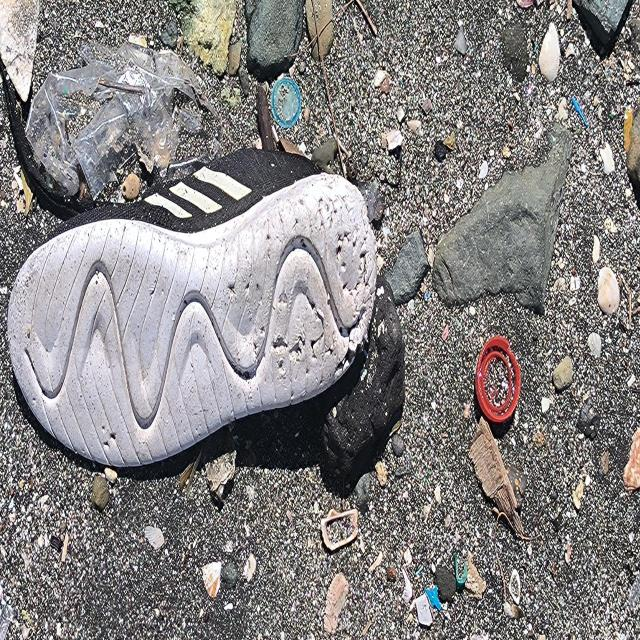plastic_waste: (476, 337, 522, 426)
rubber_waste: (9, 147, 380, 471)
